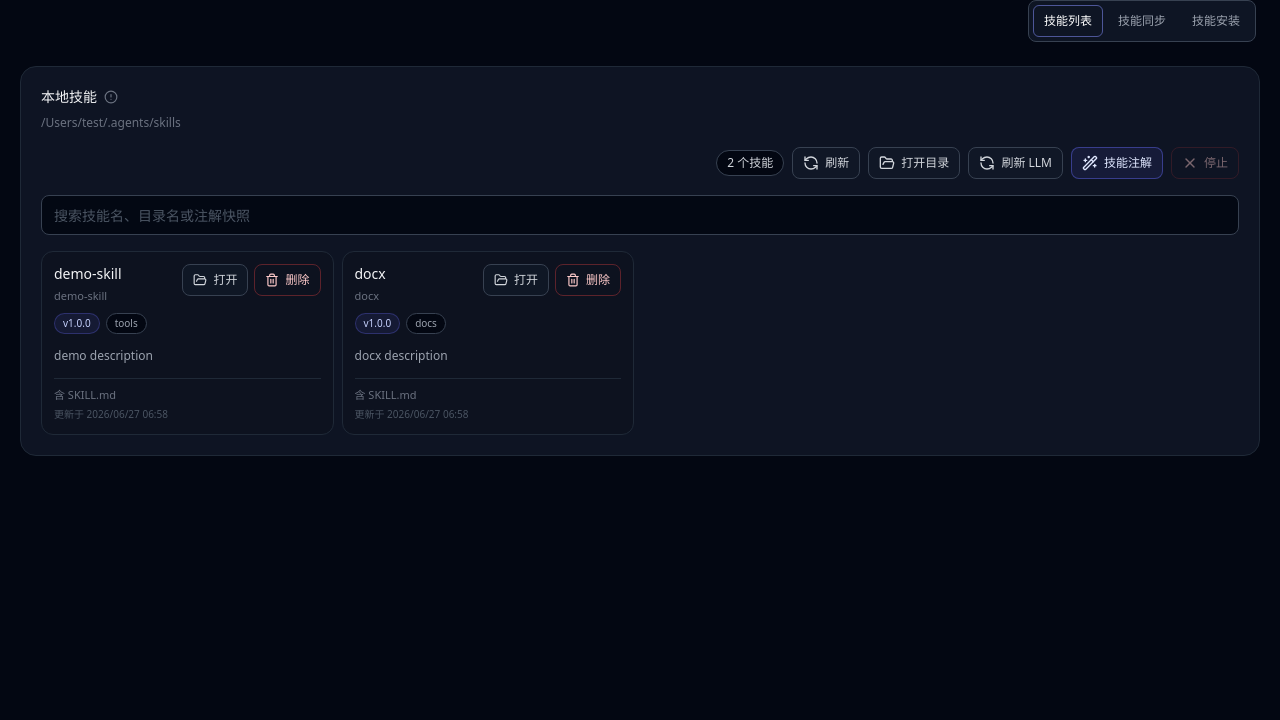
Test case: SkillsPage › shows stderr warning summary when npm config warnings are folded
Expected: the heading "本地技能" is shown, left=41, top=87, right=97, bottom=107
Click the button "技能安装" at {"x": 1216, "y": 21}, box left=1181, top=5, right=1251, bottom=37
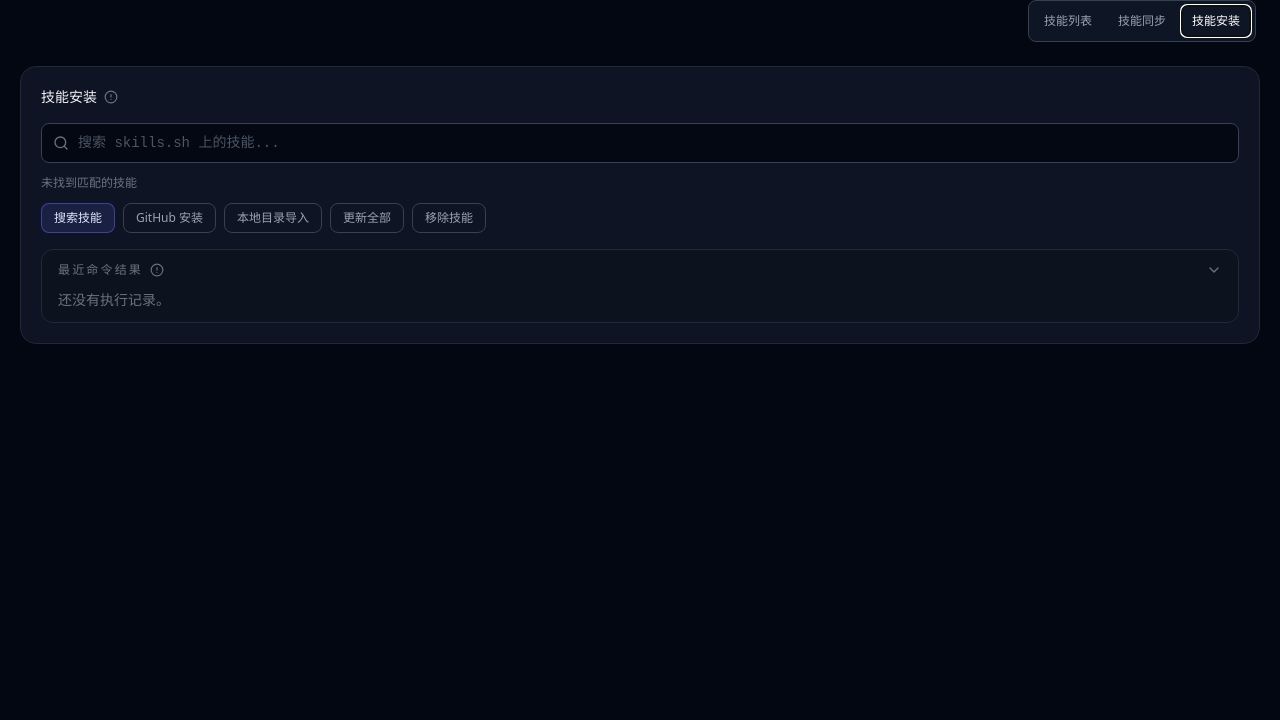
Click the button "更新全部" at {"x": 367, "y": 218}, box left=330, top=203, right=404, bottom=233
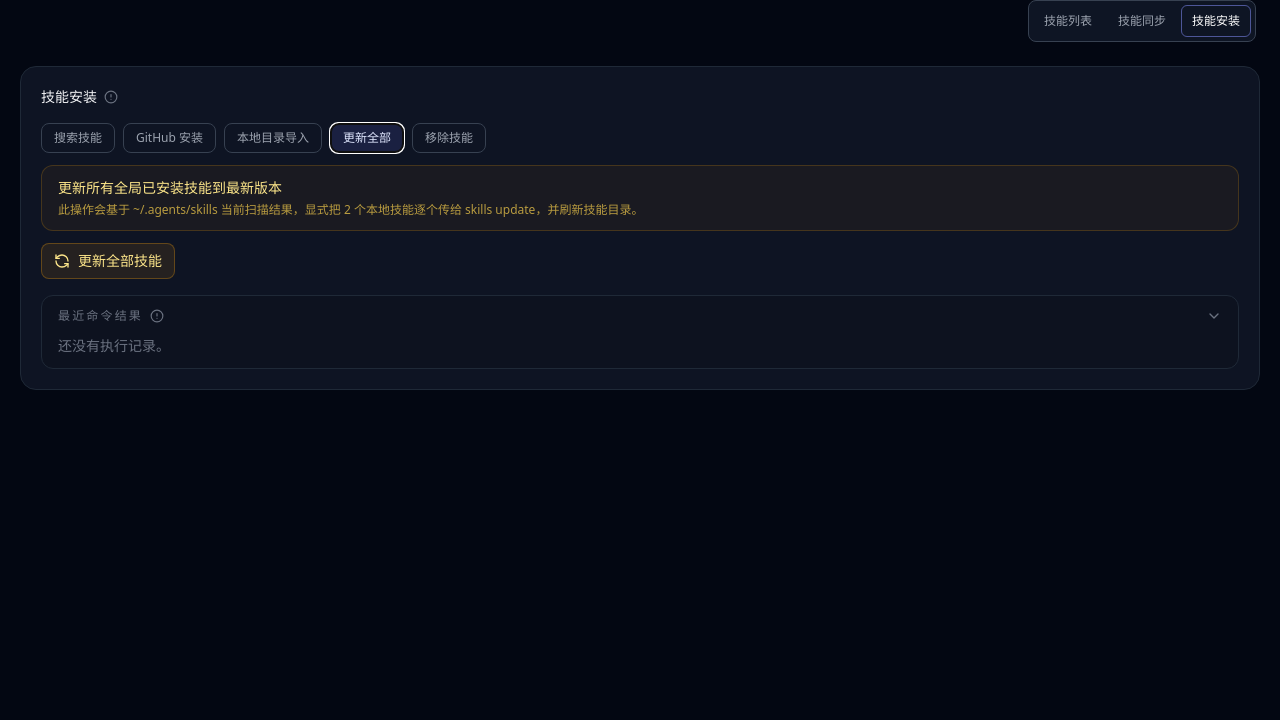
Click the button "更新全部技能" at {"x": 108, "y": 261}, box left=41, top=243, right=175, bottom=279
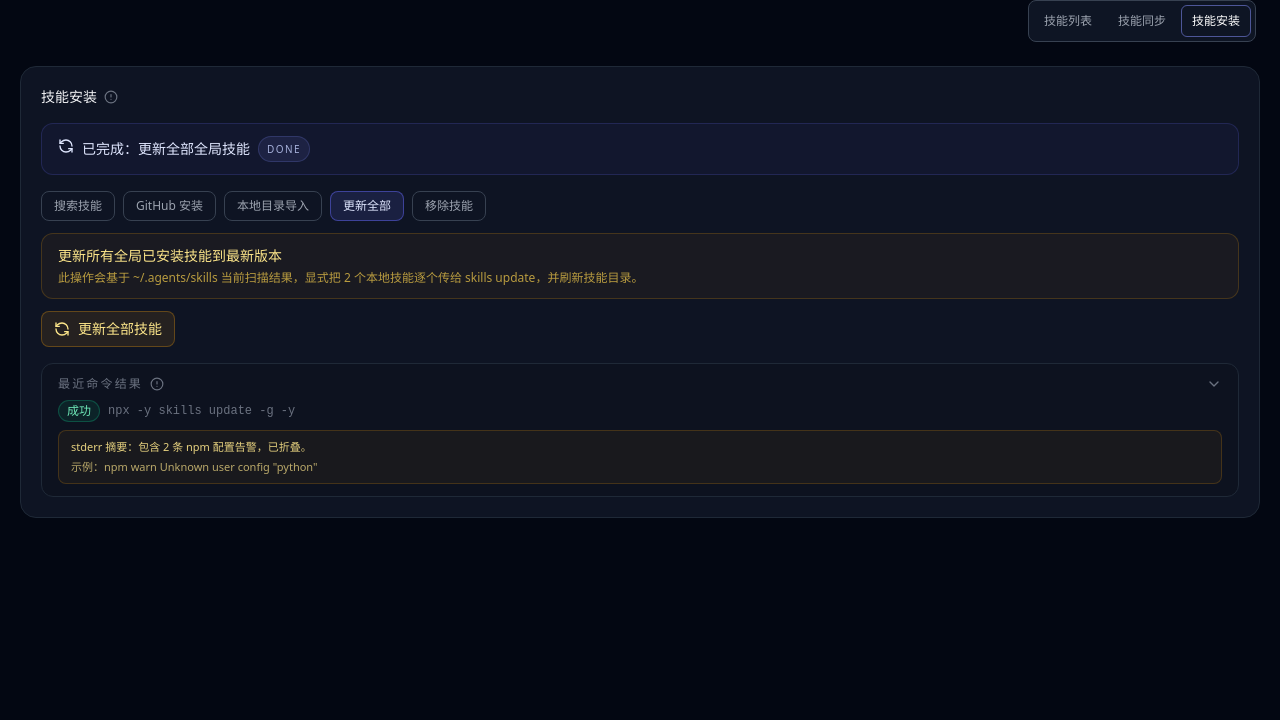
Result: the text "示例：npm warn Unknown user config \"python\"" is shown at left=71, top=459, right=318, bottom=474
